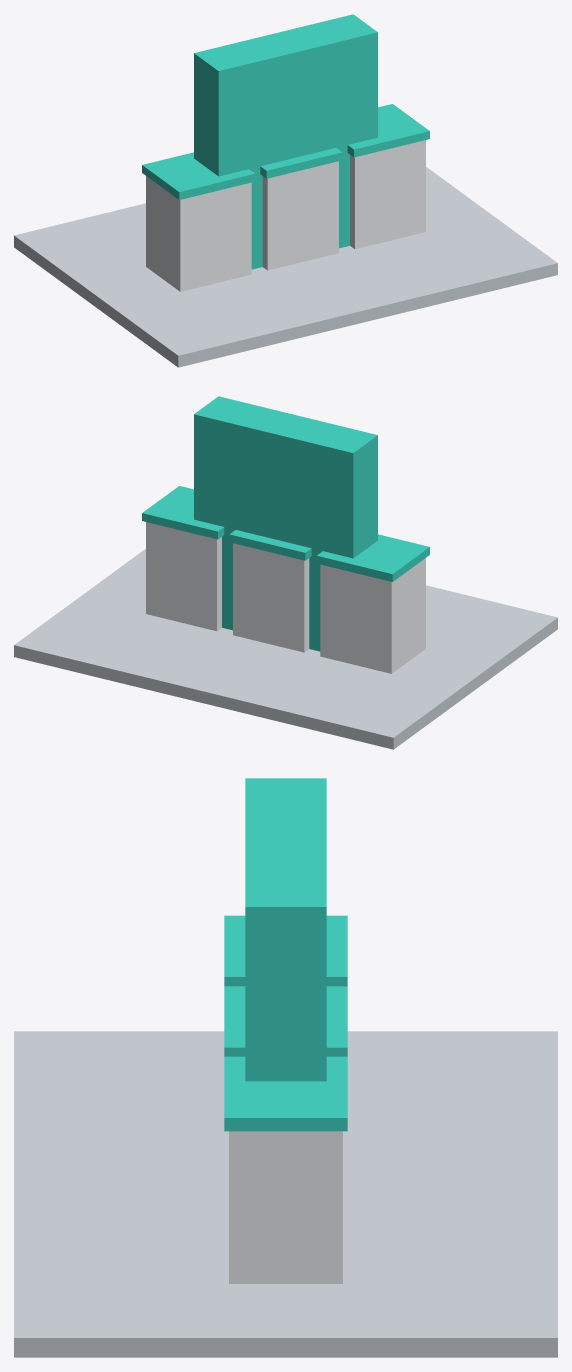
3 renders of one model, top to bottom at view 1: azimuth 30°, elevation 25°; view 2: azimuth 150°, elevation 25°; view 3: azimuth 270°, elevation 25°, orthographic. The views are drawn at different scales.
Visible parts, largest first — view 1: Exhibition Booth Concept; view 2: Exhibition Booth Concept; view 3: Exhibition Booth Concept.
Boxes of the visible parts, x1,y1,x2,y2 form: Exhibition Booth Concept: (14, 14, 557, 367); Exhibition Booth Concept: (14, 396, 557, 749); Exhibition Booth Concept: (14, 778, 557, 1357).
Size of the model in its own units: 4 by 2.2 by 3.
